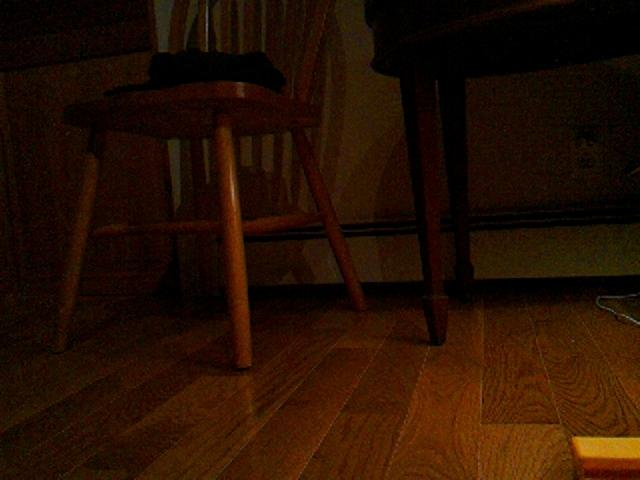yellow: (570, 434, 640, 478)
